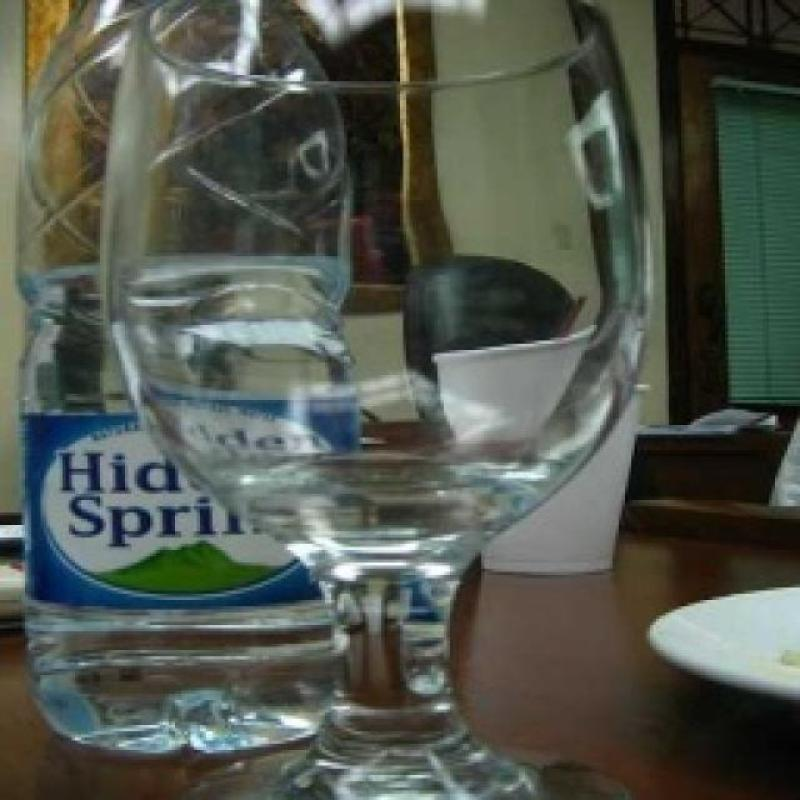botella: (16, 0, 357, 750)
